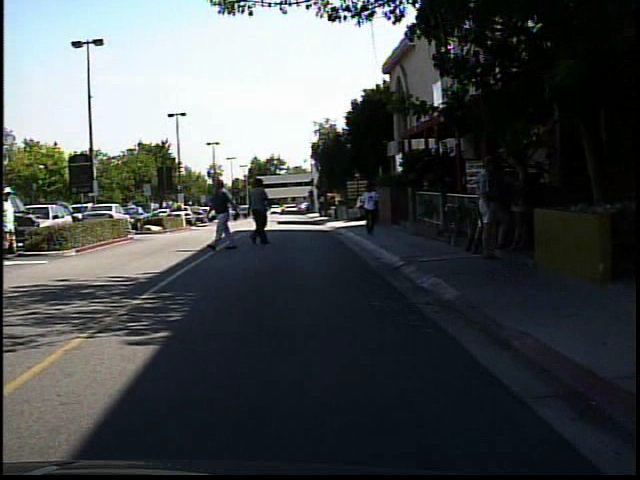person: (468, 149, 508, 263), (502, 154, 532, 256), (208, 175, 241, 254), (246, 174, 280, 250), (4, 182, 26, 262), (357, 178, 385, 239), (172, 195, 187, 228), (245, 199, 261, 224)
